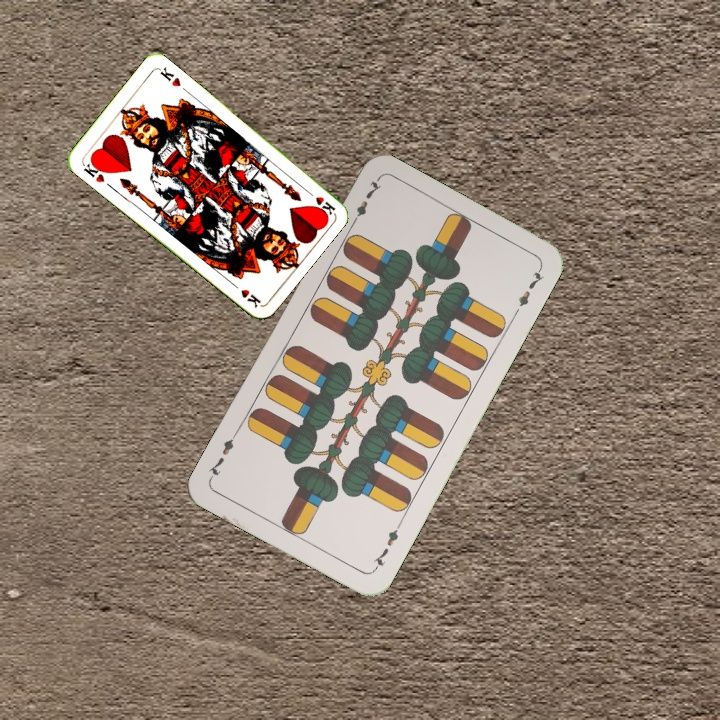E7: (346, 176, 384, 230), (368, 518, 404, 573)
HK: (301, 185, 338, 217), (79, 156, 108, 185)
